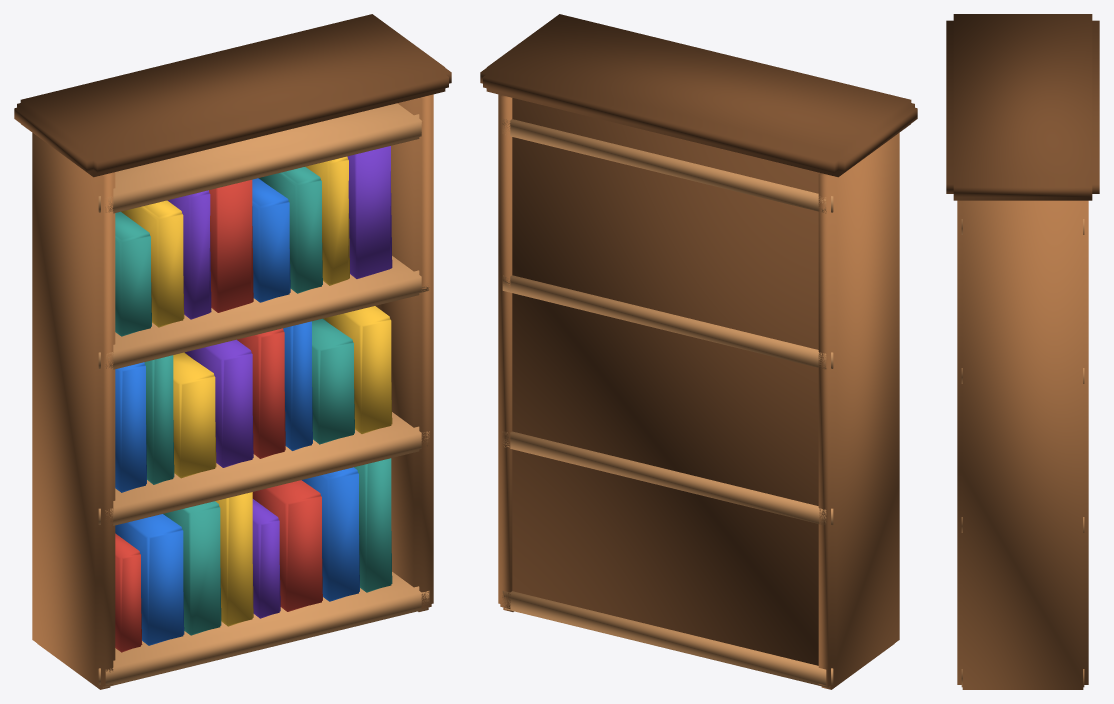
File: estante.glb
3 views of the same model, side by side, from view 1: azimuth 30°, elevation 25°; view 2: azimuth 150°, elevation 25°; view 3: azimuth 270°, elevation 25° (orthographic). The views are drawn at different scales.
Visible parts, largest first — view 1: Estante; view 2: Estante; view 3: Estante.
Part boxes in pixels (x1,y1,x2,y2): Estante: [14, 14, 451, 689]; Estante: [480, 14, 917, 689]; Estante: [946, 14, 1099, 689].
Size of the model in its own units: 1.1 by 1.56 by 0.42.
